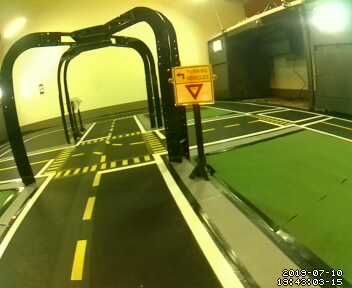Turn Yield: (171, 62, 215, 108)
